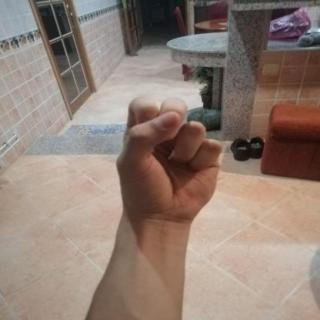QAAF: (97, 87, 245, 235)
